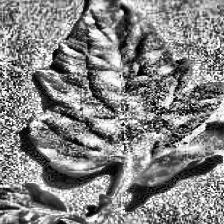leaf mold: (28, 0, 224, 182)
